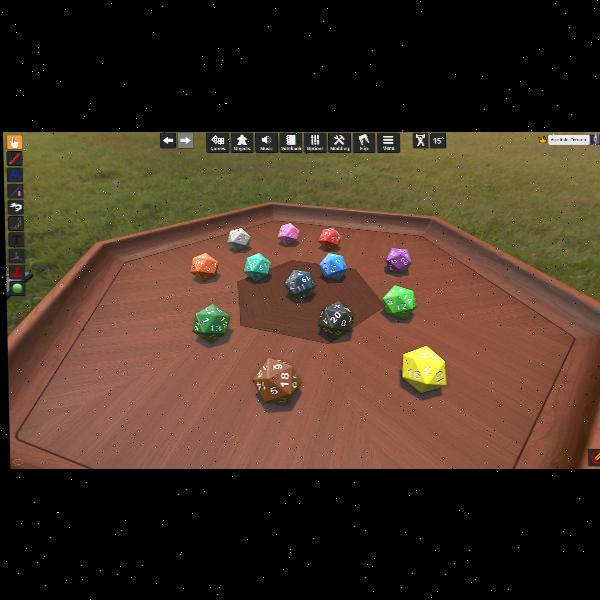d20: (253, 354, 304, 402), (404, 344, 447, 392), (191, 303, 230, 343), (316, 300, 353, 338), (383, 284, 415, 318), (284, 268, 314, 298), (190, 252, 218, 280), (243, 252, 271, 280), (320, 252, 348, 280), (384, 247, 409, 273), (318, 226, 341, 250), (227, 228, 250, 250), (278, 223, 300, 245)
